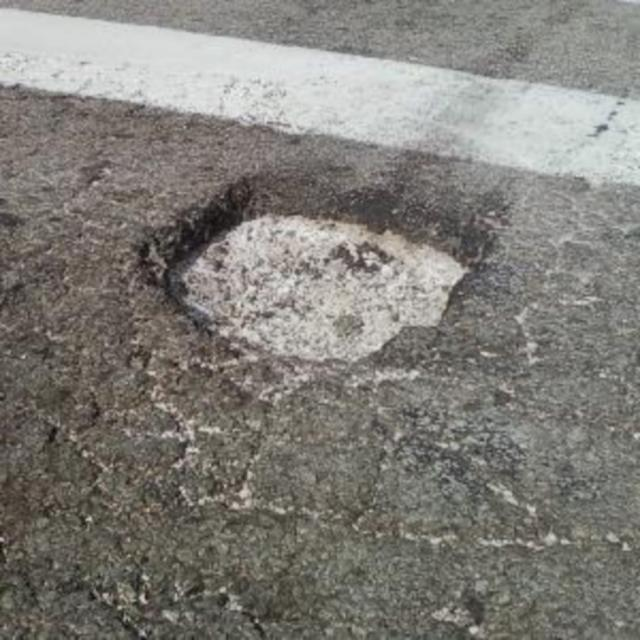pothole: (134, 147, 498, 386)
